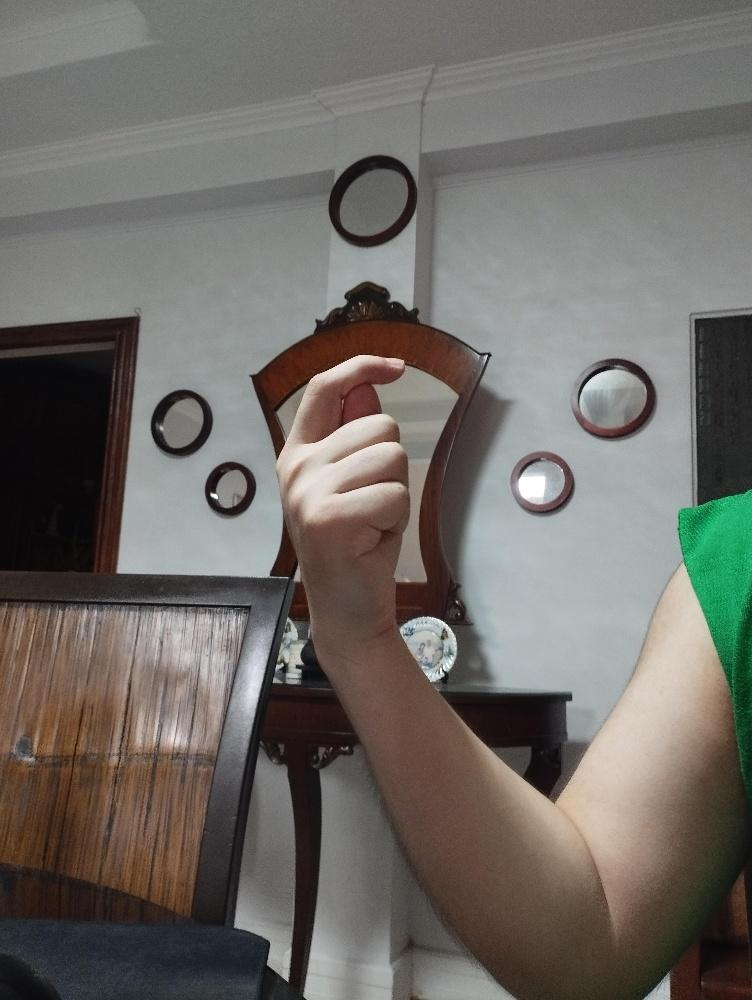t: (271, 349, 414, 646)
